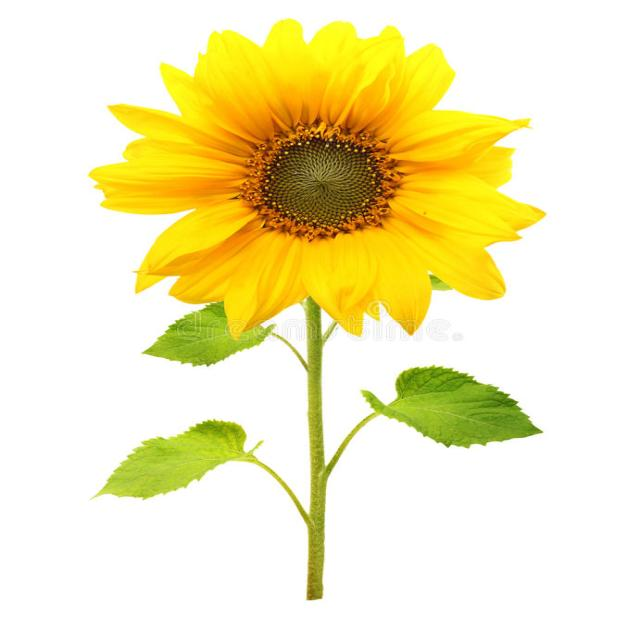sunflower: (85, 5, 537, 341)
